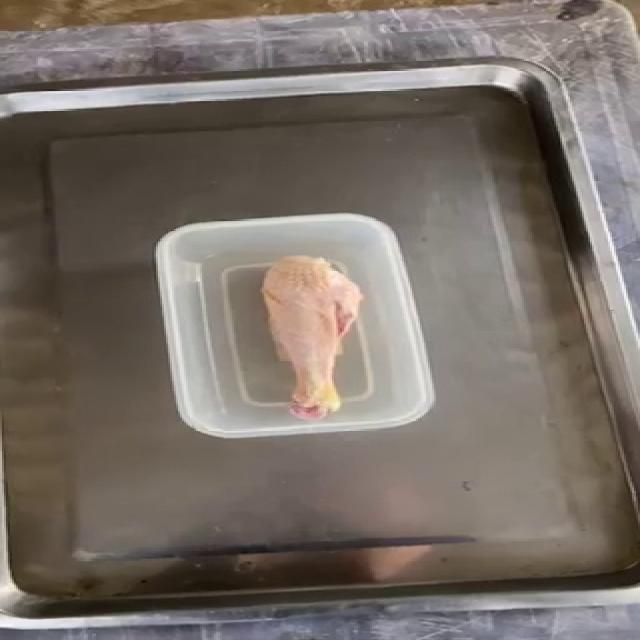chicken: (248, 251, 376, 418)
